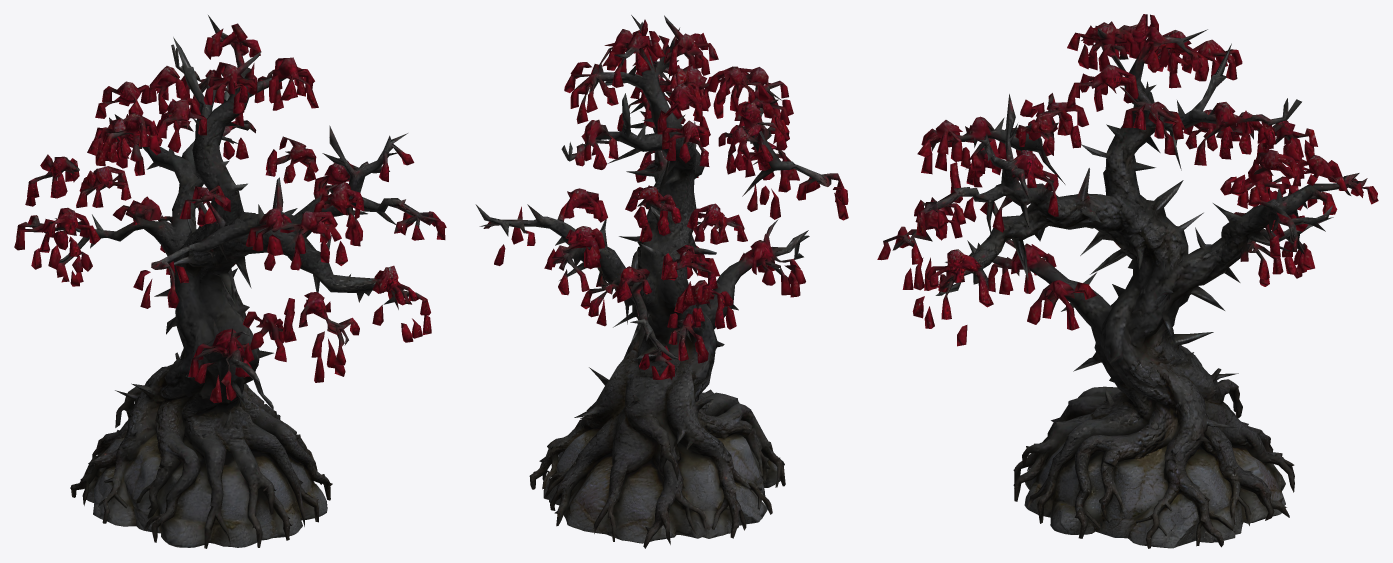
Rendered from bellthorn_tree.glb.
The picture shows the model from 3 angles, left to right: view 1: azimuth 30°, elevation 25°; view 2: azimuth 150°, elevation 25°; view 3: azimuth 270°, elevation 25°; orthographic projection. The views are drawn at different scales.
Visible parts, largest first — view 1: tripo_node_184748f2-0aa1-4b80-a8b0-06d09007857b; view 2: tripo_node_184748f2-0aa1-4b80-a8b0-06d09007857b; view 3: tripo_node_184748f2-0aa1-4b80-a8b0-06d09007857b.
Part boxes in pixels (bbox=[...]): tripo_node_184748f2-0aa1-4b80-a8b0-06d09007857b: bbox=[14, 15, 446, 548]; tripo_node_184748f2-0aa1-4b80-a8b0-06d09007857b: bbox=[475, 15, 848, 548]; tripo_node_184748f2-0aa1-4b80-a8b0-06d09007857b: bbox=[877, 14, 1378, 548].
Bounding box in the file's own units: 0.5819 × 1 × 0.919.
Materials: 1 (1 with a texture image).
